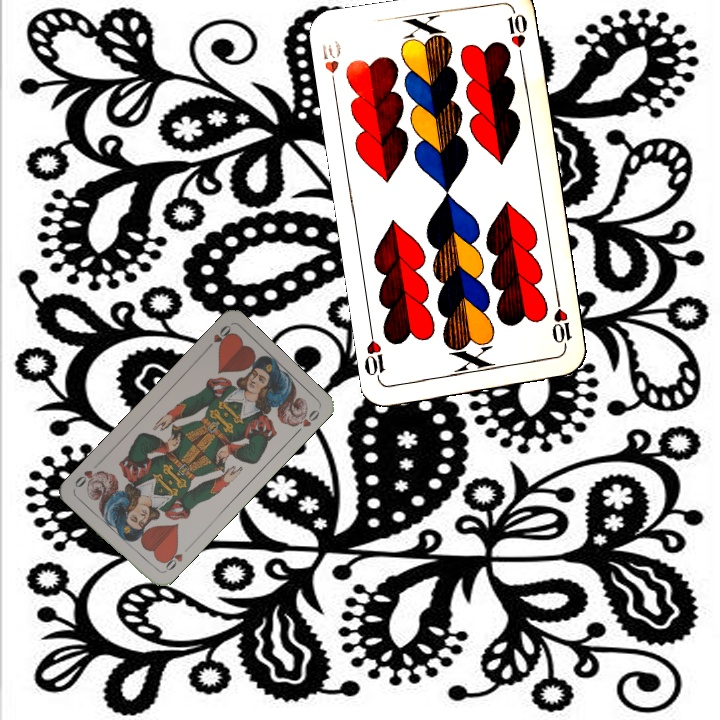H10: (547, 294, 575, 353), (318, 36, 344, 94)
HO: (201, 321, 235, 354), (158, 543, 192, 575)
